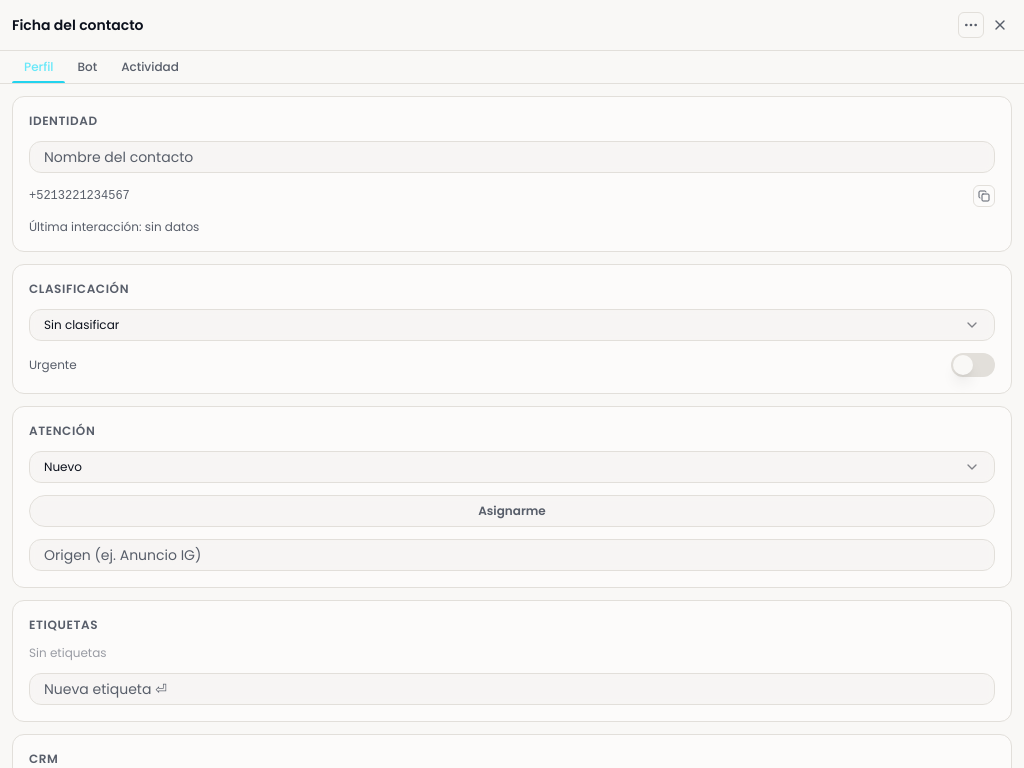
ContactPanel — memoria del bot (Fase 2) › muestra los hechos recordados con su etiqueta en español
Click the tab "Bot". click: (87,67)
box: [66,51,109,83]
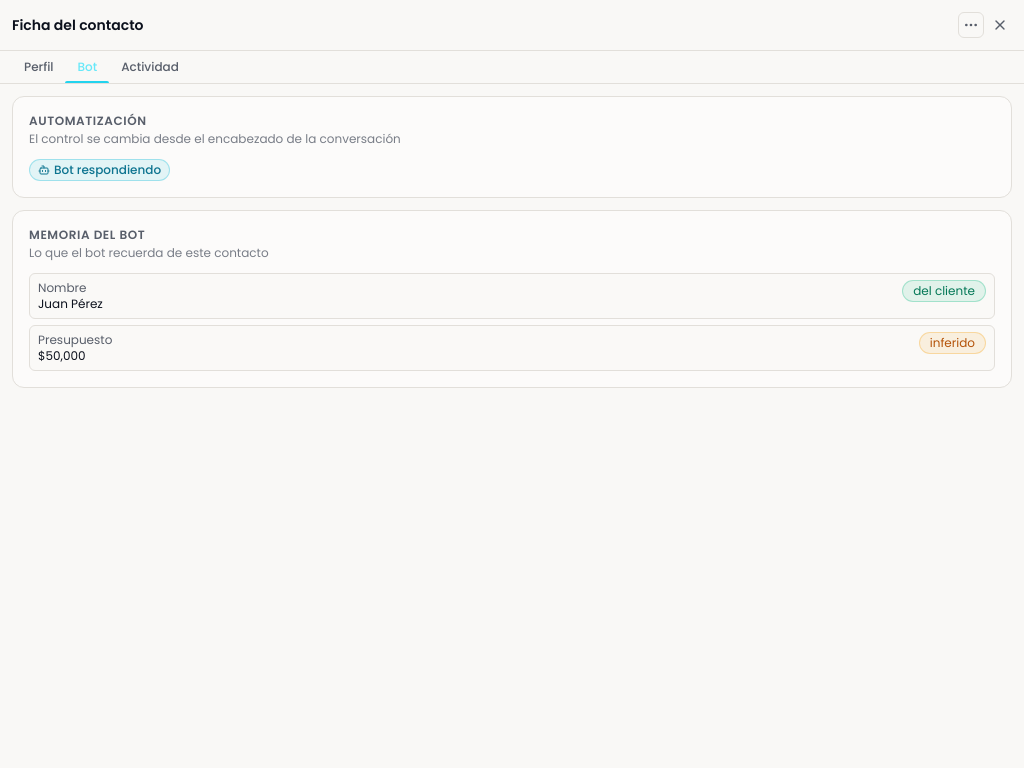
Now the heading "Memoria del bot" is shown, box [29,226,145,243]
Now the text "Nombre" is shown, box [38,279,86,296]
Now the text "Juan Pérez" is shown, box [38,295,103,312]
